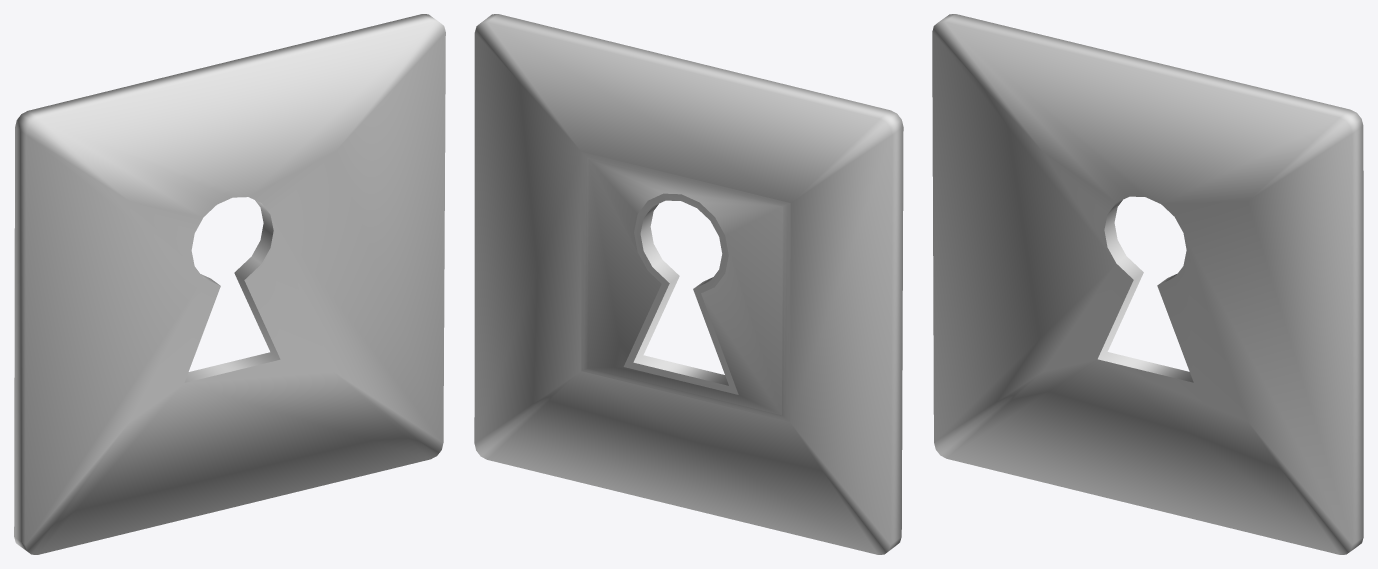
Rendered from SerrureEnfant1.fbx.
3 views of the same model, side by side, from view 1: azimuth 30°, elevation 25°; view 2: azimuth 150°, elevation 25°; view 3: azimuth 330°, elevation 25° (orthographic).
Parts seen in each view (by area): view 1: SerrureEnfant; view 2: SerrureEnfant; view 3: SerrureEnfant.
Part boxes in pixels (left/top/right/bottom): SerrureEnfant: left=14, top=14, right=445, bottom=554; SerrureEnfant: left=474, top=14, right=903, bottom=554; SerrureEnfant: left=932, top=14, right=1363, bottom=554.
Size of the model in its own units: 3.95 by 3.94 by 0.2244.
1 material, 1 textured.
